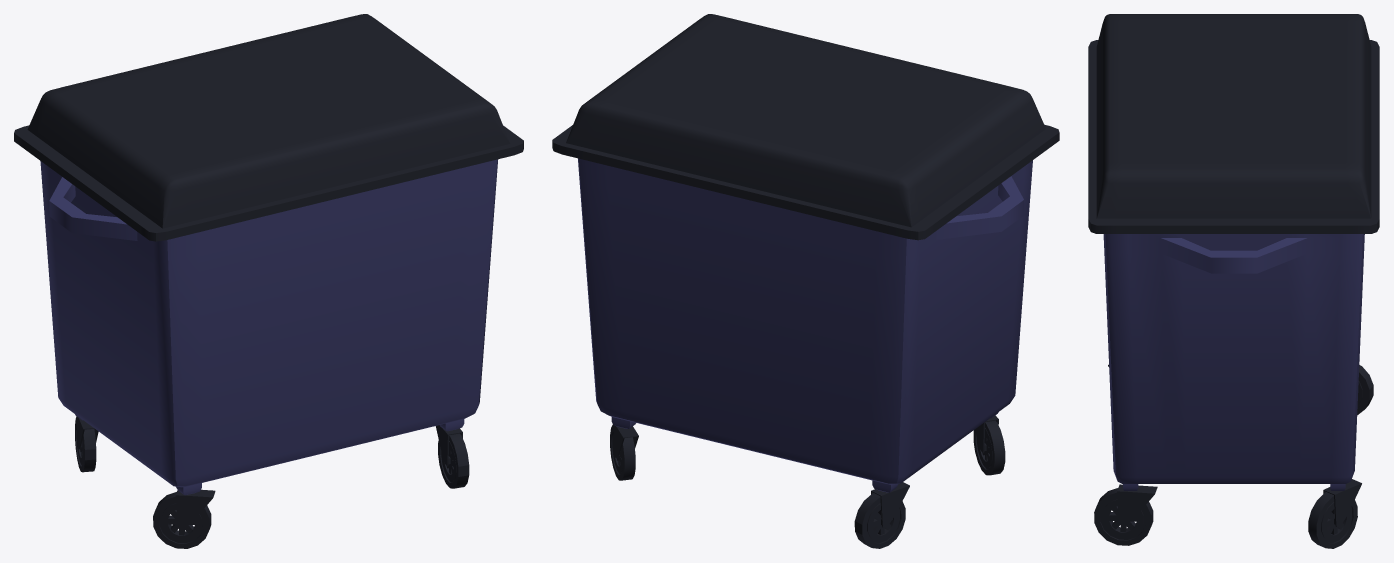
Rendered from poubelle.fbx.
3 views of the same model, side by side, from view 1: azimuth 30°, elevation 25°; view 2: azimuth 150°, elevation 25°; view 3: azimuth 270°, elevation 25° (orthographic). The views are drawn at different scales.
Parts seen in each view (by area): view 1: Poubelle; view 2: Poubelle; view 3: Poubelle.
Boxes of the visible parts, bbox=[...] form: Poubelle: bbox=[14, 14, 523, 548]; Poubelle: bbox=[552, 14, 1059, 548]; Poubelle: bbox=[1088, 14, 1379, 548].
Size of the model in its own units: 822 by 718 by 490.
